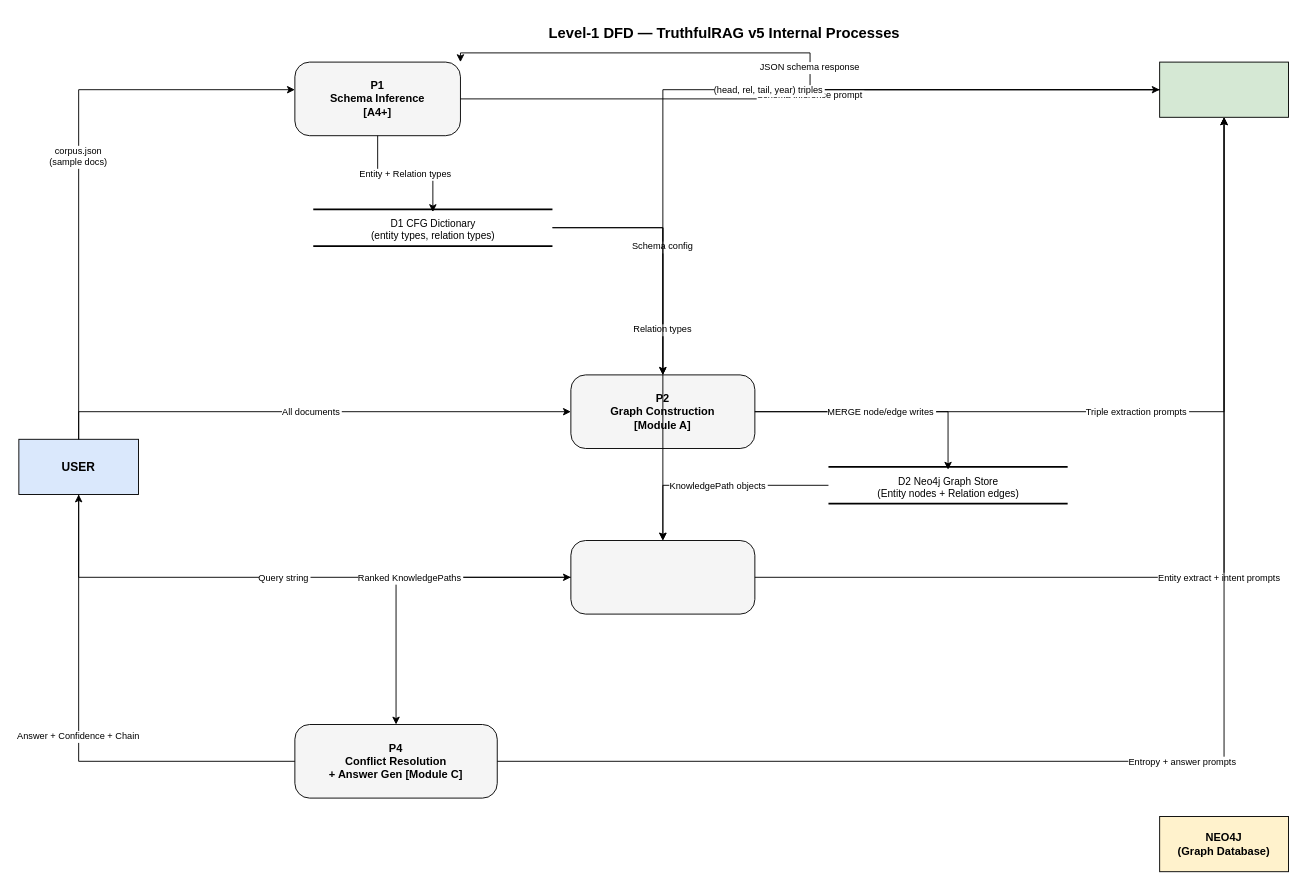
This 1305x888 diagram has some shape labels left out. Each missing label, with the centre of its shape:
OLLAMA (LLM Runtime): point (1223, 89)
P3 Graph Retrieval [Module B]: point (662, 577)
